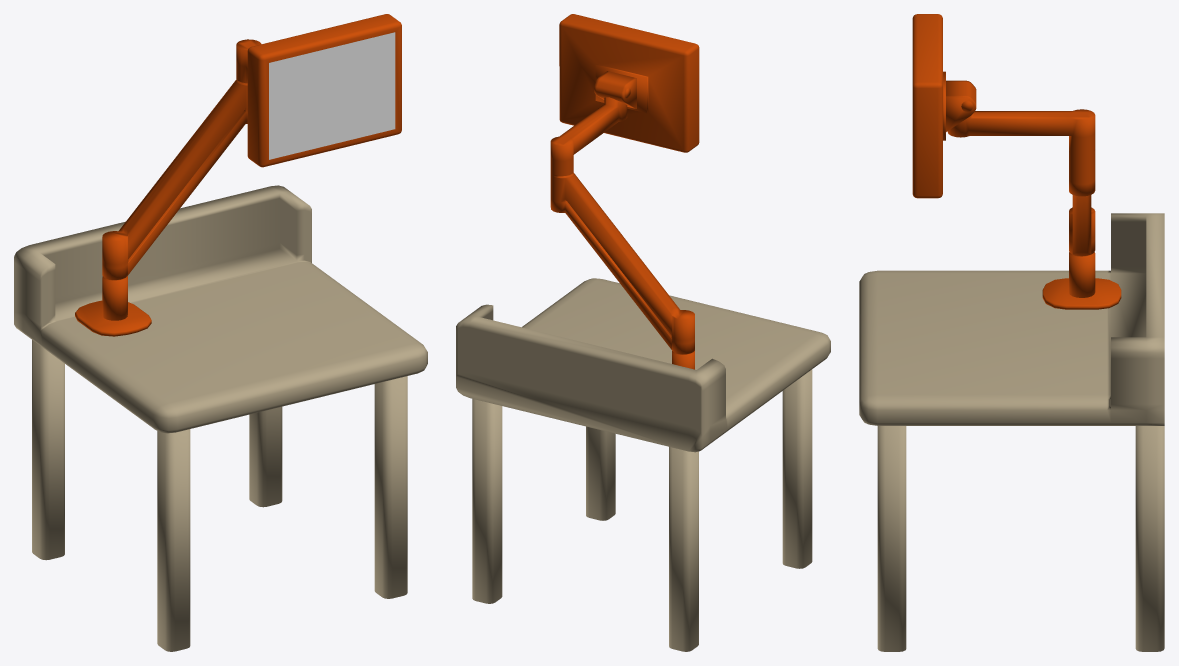
File: industrial_test_computer (2).fbx
3 renders of one model, left to right at view 1: azimuth 30°, elevation 25°; view 2: azimuth 150°, elevation 25°; view 3: azimuth 270°, elevation 25°, orthographic. The views are drawn at different scales.
Visible parts, largest first — view 1: top, legs, screen_small, orange_small, orange_small_joint; view 2: top, legs, screen_small, orange_small, orange_small_joint, orange_small_small_joint; view 3: top, legs, screen_small, orange_small, orange_small_joint, orange_small_small_joint.
Boxes of the visible parts, x1,y1,x2,y2 form: top: [14, 185, 427, 433]; legs: [32, 340, 407, 651]; screen_small: [247, 14, 401, 167]; orange_small: [75, 79, 247, 336]; orange_small_joint: [236, 39, 261, 83]; top: [456, 278, 830, 452]; legs: [472, 369, 812, 651]; screen_small: [559, 14, 699, 152]; orange_small: [550, 171, 694, 369]; orange_small_joint: [550, 97, 627, 176]; orange_small_small_joint: [594, 71, 636, 108]; top: [859, 213, 1164, 425]; legs: [877, 426, 1164, 651]; screen_small: [912, 14, 945, 198]; orange_small: [1042, 149, 1121, 309]; orange_small_joint: [947, 109, 1095, 154]; orange_small_small_joint: [946, 80, 976, 131].
Size of the model in its own units: 89.47 by 175 by 84.45.
